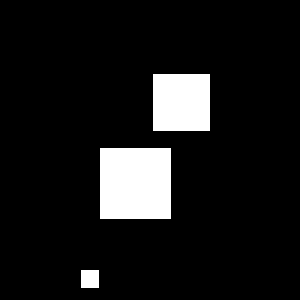circle: (100, 148, 171, 219), (153, 74, 210, 131), (81, 270, 99, 288)
